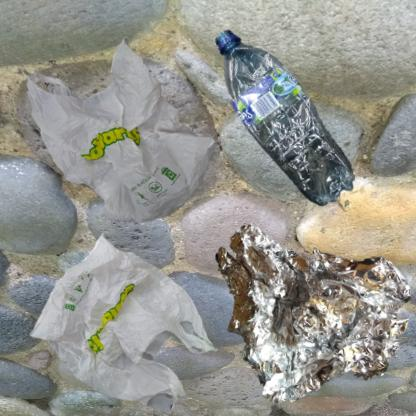aluminio: (213, 213, 416, 409)
bolsa: (10, 10, 273, 296), (10, 213, 237, 416)
botella: (213, 10, 374, 243)
